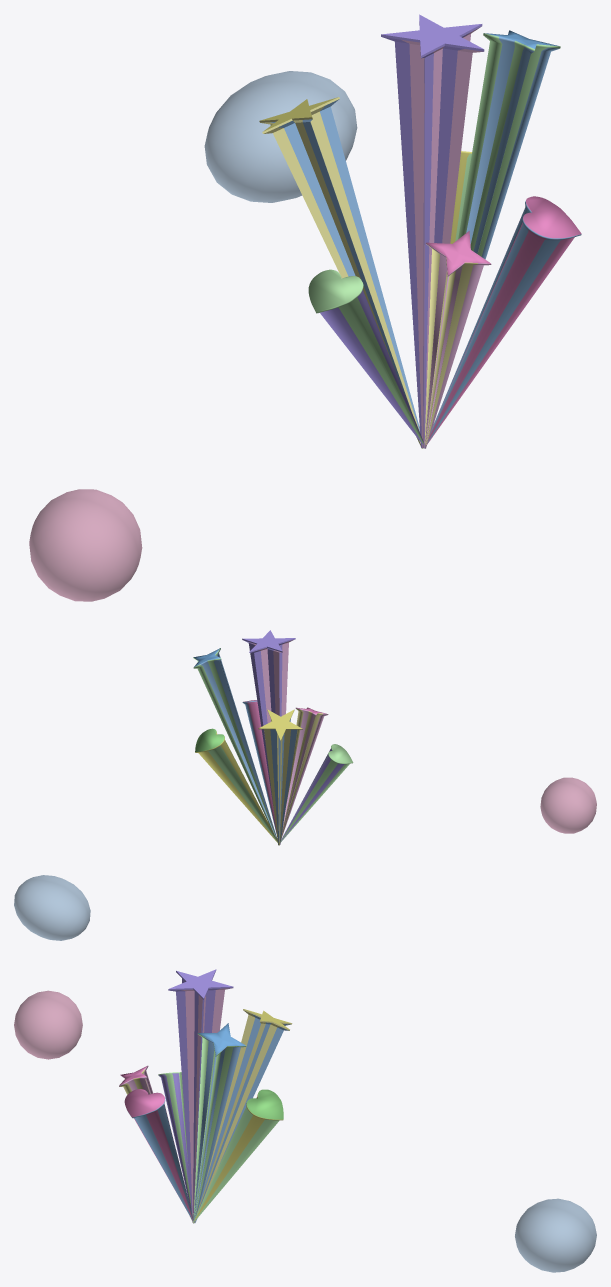
File: semesterproject.glb
The picture shows the model from 3 angles, top to bottom: view 1: azimuth 30°, elevation 25°; view 2: azimuth 150°, elevation 25°; view 3: azimuth 270°, elevation 25°; orthographic projection. The views are drawn at different scales.
Parts seen in each view (by area): view 1: Plane.002, Plane.003, Icosphere, Plane, Icosphere.001, heart, Plane.001, heart.003, heart.002; view 2: Icosphere, Plane.002, Plane, Plane.003, Icosphere.001, heart.002, Plane.001, heart.003, heart; view 3: Plane.002, Icosphere, Plane.003, Plane, Icosphere.001, heart.002, heart, heart.003, Plane.001.
Boxes of the visible parts, x1=… form: Plane.002: x1=381, y1=14, x2=484, y2=448; Plane.003: x1=259, y1=97, x2=423, y2=448; Icosphere: x1=204, y1=71, x2=357, y2=202; Plane: x1=458, y1=30, x2=560, y2=259; Icosphere.001: x1=29, y1=489, x2=142, y2=601; heart: x1=427, y1=196, x2=581, y2=444; Plane.001: x1=424, y1=231, x2=491, y2=448; heart.003: x1=308, y1=269, x2=423, y2=444; heart.002: x1=450, y1=151, x2=471, y2=243; Icosphere: x1=14, y1=875, x2=90, y2=940; Plane.002: x1=242, y1=630, x2=295, y2=844; Plane: x1=193, y1=648, x2=277, y2=839; Plane.003: x1=258, y1=709, x2=302, y2=845; Icosphere.001: x1=540, y1=777, x2=596, y2=833; heart.002: x1=195, y1=728, x2=277, y2=842; Plane.001: x1=281, y1=707, x2=328, y2=839; heart.003: x1=280, y1=744, x2=353, y2=842; heart: x1=242, y1=700, x2=276, y2=834; Plane.002: x1=168, y1=969, x2=233, y2=1222; Icosphere: x1=515, y1=1198, x2=596, y2=1272; Plane.003: x1=194, y1=1009, x2=292, y2=1222; Plane: x1=193, y1=1023, x2=246, y2=1223; Icosphere.001: x1=14, y1=990, x2=82, y2=1059; heart.002: x1=193, y1=1089, x2=283, y2=1222; heart: x1=124, y1=1089, x2=193, y2=1221; heart.003: x1=158, y1=1072, x2=191, y2=1209; Plane.001: x1=119, y1=1065, x2=193, y2=1223.
Bounding box in the file's own units: 3.65 × 1.95 × 4.16.
